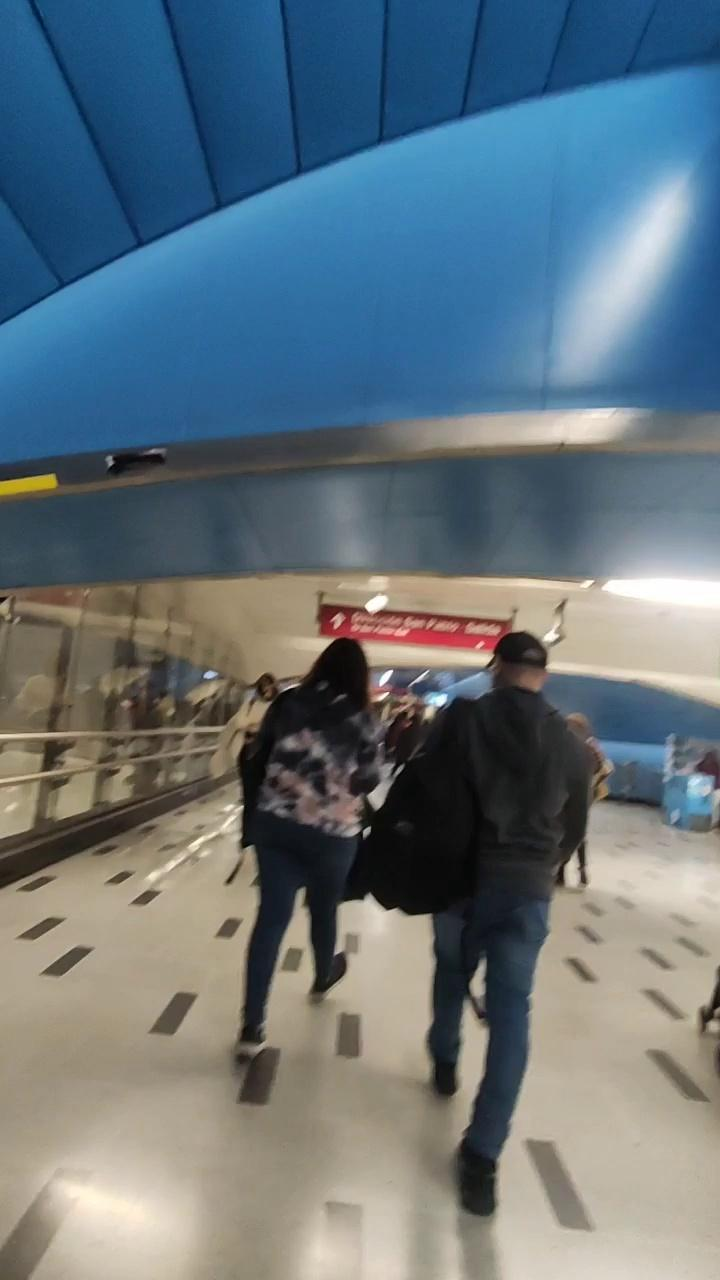up arrow: (325, 612, 350, 630)
